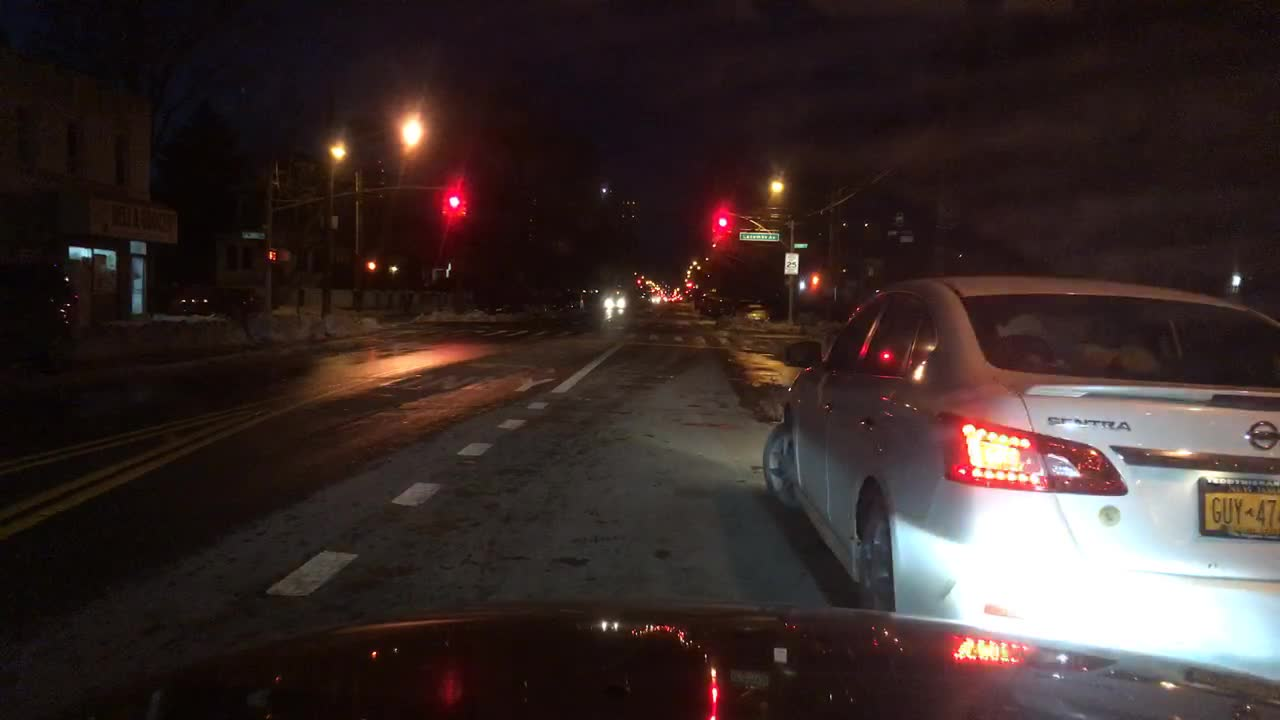car: (761, 268, 1279, 684), (174, 282, 265, 320), (602, 289, 635, 313), (742, 301, 770, 320), (562, 289, 586, 311), (527, 299, 553, 317), (696, 290, 714, 313), (688, 289, 707, 310), (553, 296, 576, 313), (707, 294, 728, 311), (632, 296, 653, 310), (649, 290, 667, 306), (661, 292, 674, 306)
traffic light: (457, 187, 469, 219), (439, 187, 450, 217), (450, 187, 460, 215), (717, 212, 728, 236), (709, 214, 719, 240), (265, 248, 280, 264), (364, 259, 378, 273), (808, 271, 820, 287), (632, 275, 646, 287), (681, 280, 695, 290)
traffic sign: (735, 229, 782, 243), (780, 250, 801, 275), (237, 229, 268, 242), (789, 240, 810, 248)
